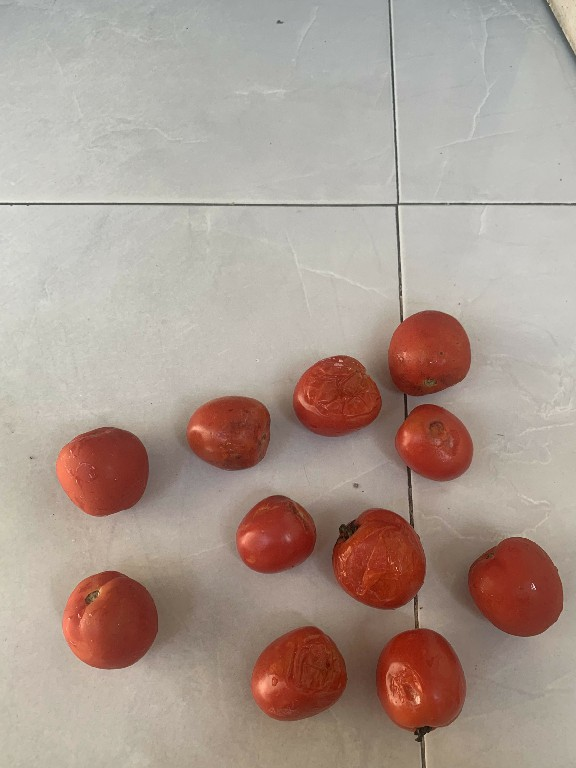NG: (246, 619, 349, 719), (331, 505, 421, 615), (376, 625, 461, 735), (294, 351, 383, 438), (179, 391, 273, 473), (230, 490, 319, 573), (392, 401, 483, 482)
OK: (54, 561, 166, 672), (461, 530, 571, 640), (49, 420, 156, 517), (391, 305, 474, 394)
